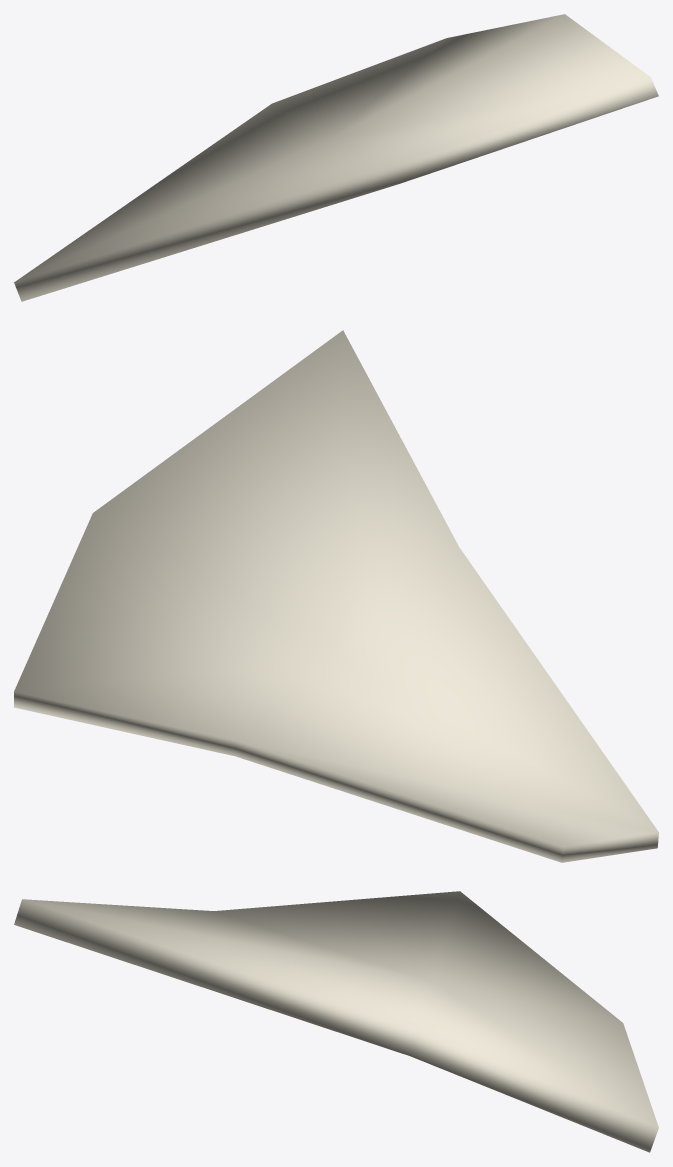
The picture shows the model from 3 angles, top to bottom: view 1: azimuth 30°, elevation 25°; view 2: azimuth 150°, elevation 25°; view 3: azimuth 270°, elevation 25°; orthographic projection. The views are drawn at different scales.
Visible parts, largest first — view 1: ZA_76671b911ccbefd2; view 2: ZA_76671b911ccbefd2; view 3: ZA_76671b911ccbefd2.
Part boxes in pixels (x1=…): ZA_76671b911ccbefd2: x1=14, y1=14, x2=658, y2=301; ZA_76671b911ccbefd2: x1=14, y1=330, x2=658, y2=862; ZA_76671b911ccbefd2: x1=14, y1=891, x2=658, y2=1152.
Bounding box in the file's own units: 0.0144 × 0.00638 × 0.0119.
